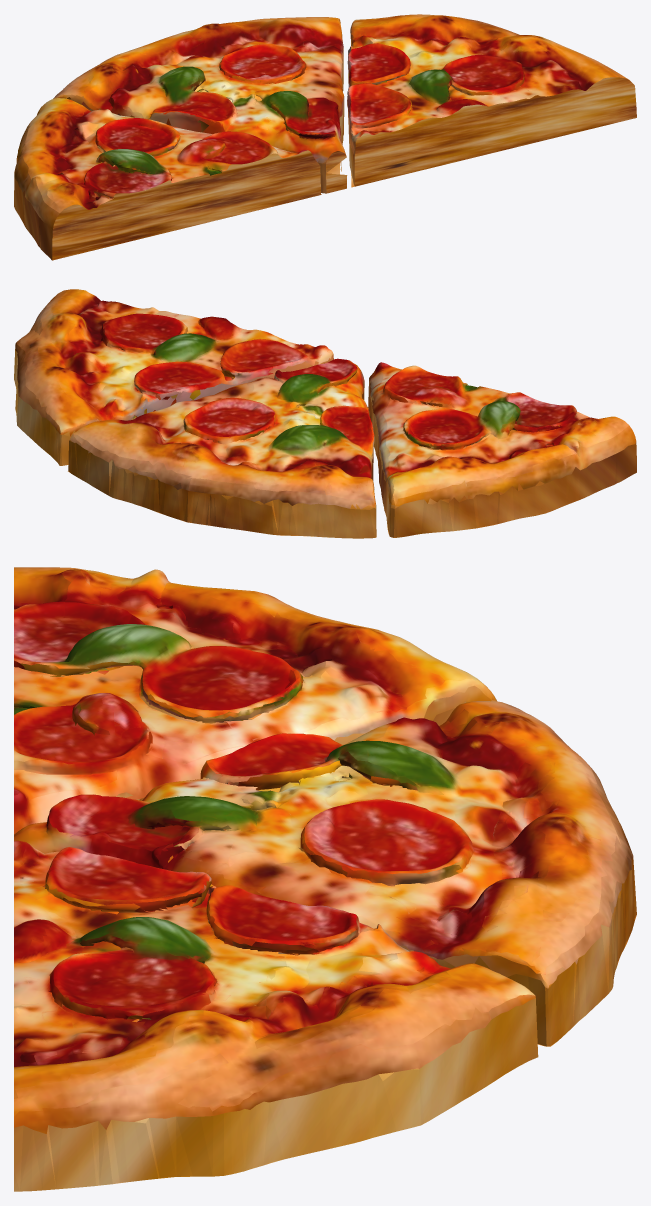
File: pepperoni-pizza-2.glb
3 views of the same model, one above another, from view 1: azimuth 30°, elevation 25°; view 2: azimuth 150°, elevation 25°; view 3: azimuth 270°, elevation 25° (orthographic). The views are drawn at different scales.
Visible parts, largest first — view 1: geometry_0; view 2: geometry_0; view 3: geometry_0.
Part boxes in pixels (x1,y1,x2,y2): geometry_0: [14, 14, 636, 260]; geometry_0: [14, 289, 636, 538]; geometry_0: [14, 567, 636, 1191].
Size of the model in its own units: 0.2981 by 0.0301 by 0.1445.
Materials: 2 (2 with a texture image).
